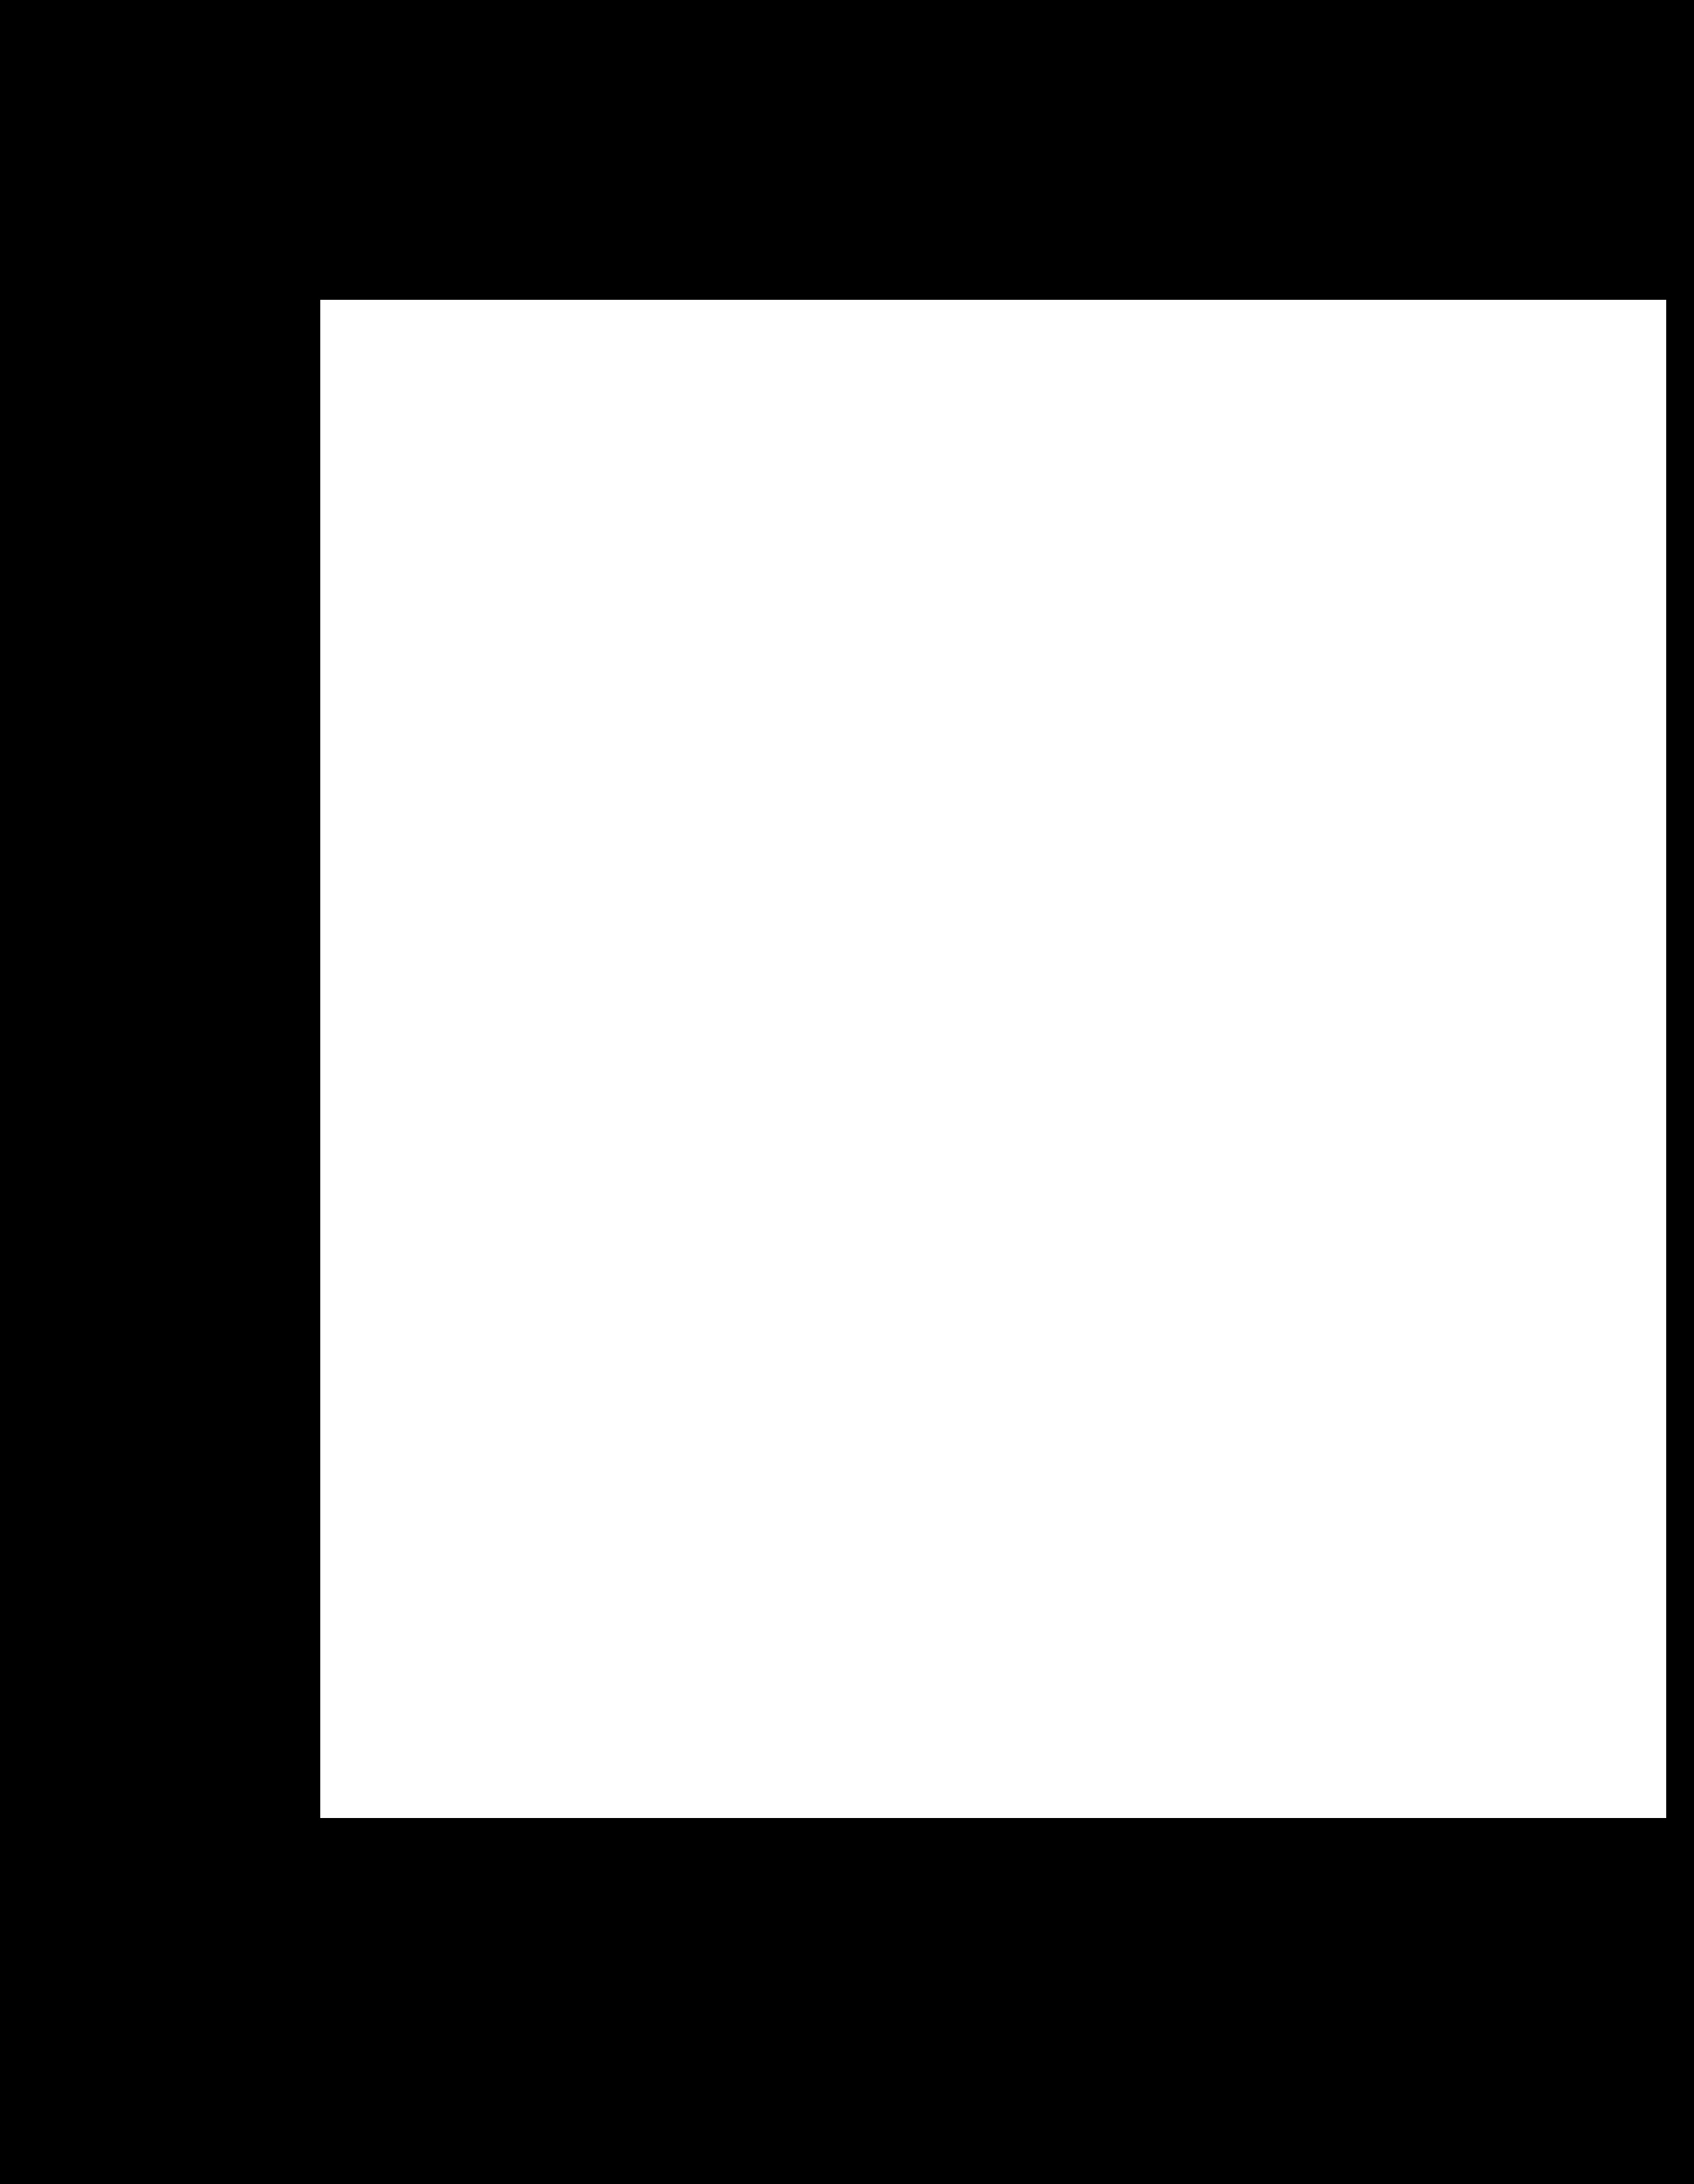table: (321, 300, 1666, 1817)
